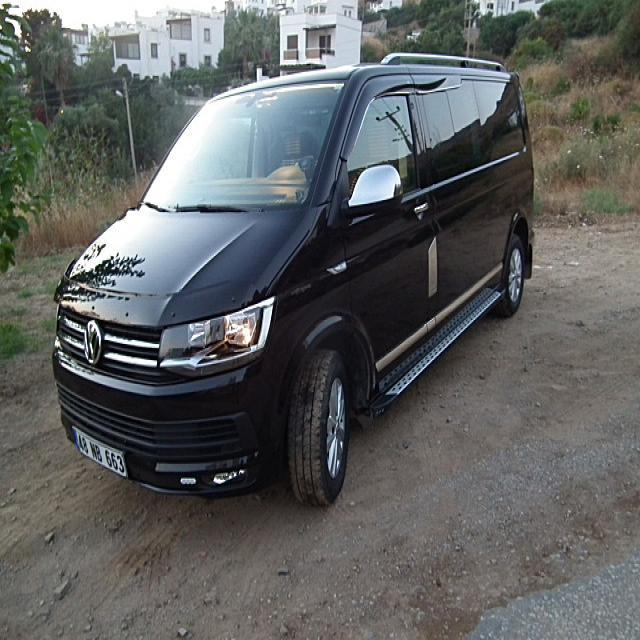plate: (72, 424, 131, 487)
